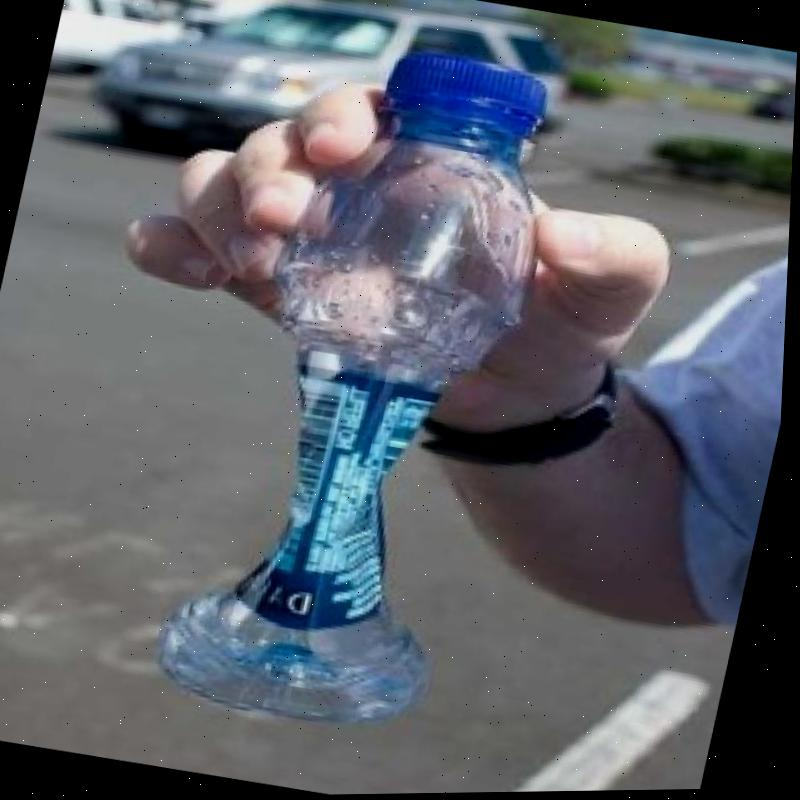botella: (151, 28, 576, 745)
